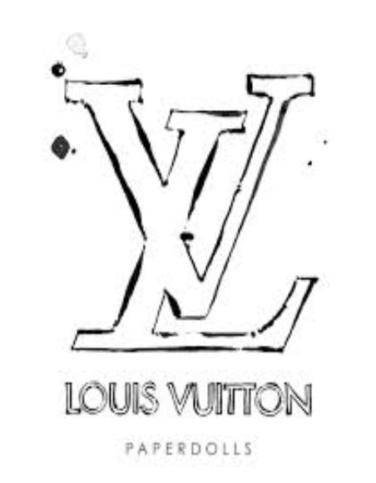LOUIS-VUITTON: (56, 64, 323, 354), (50, 371, 326, 429)
